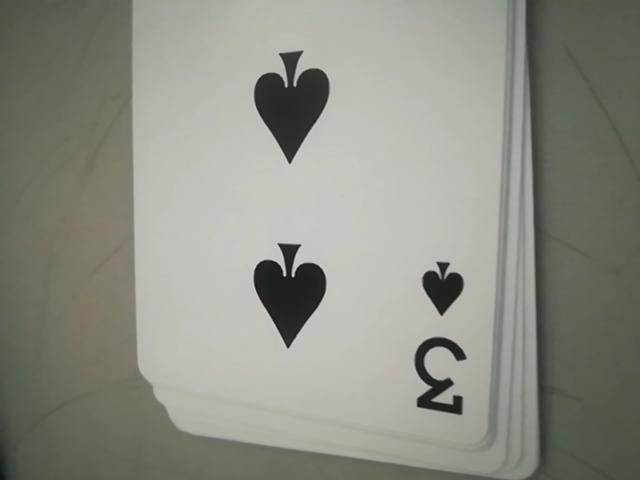ht 3: (405, 260, 475, 415)
